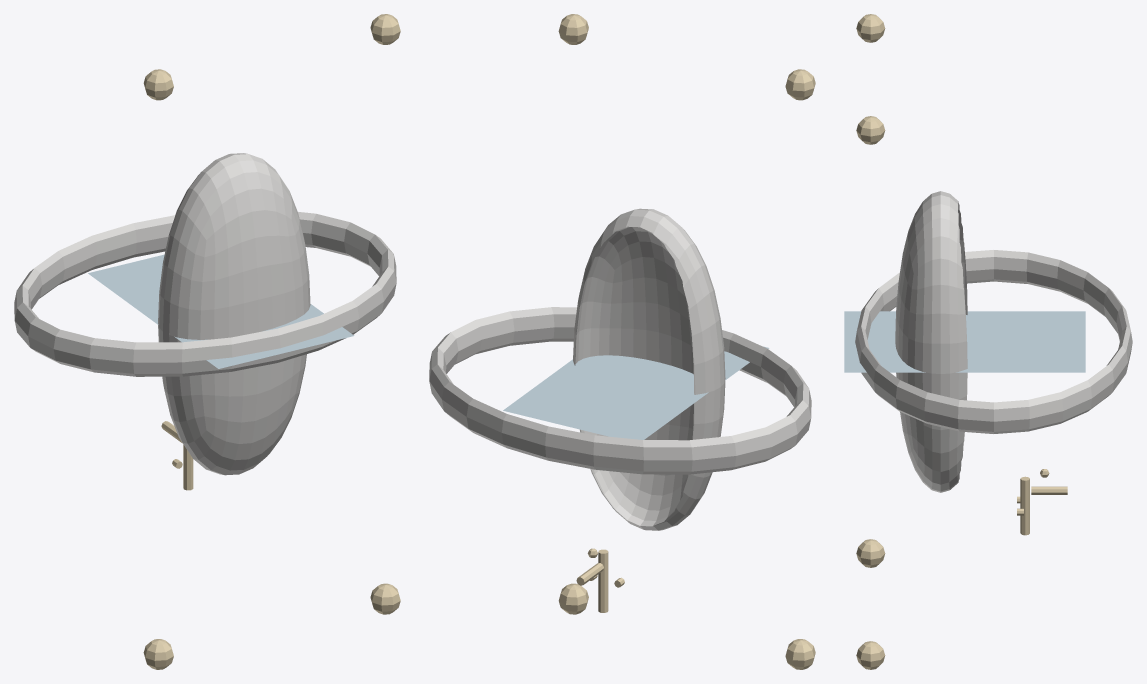
The model's file is bathtub.glb.
3 views of the same model, side by side, from view 1: azimuth 30°, elevation 25°; view 2: azimuth 150°, elevation 25°; view 3: azimuth 270°, elevation 25° (orthographic). The views are drawn at different scales.
Visible parts, largest first — view 1: Bathtub; view 2: Bathtub; view 3: Bathtub.
Part boxes in pixels (x1,y1,x2,y2): Bathtub: (14, 14, 400, 669); Bathtub: (429, 14, 815, 669); Bathtub: (844, 14, 1132, 669).
Bounding box in the file's own units: 1.56 × 2.52 × 1.19.
